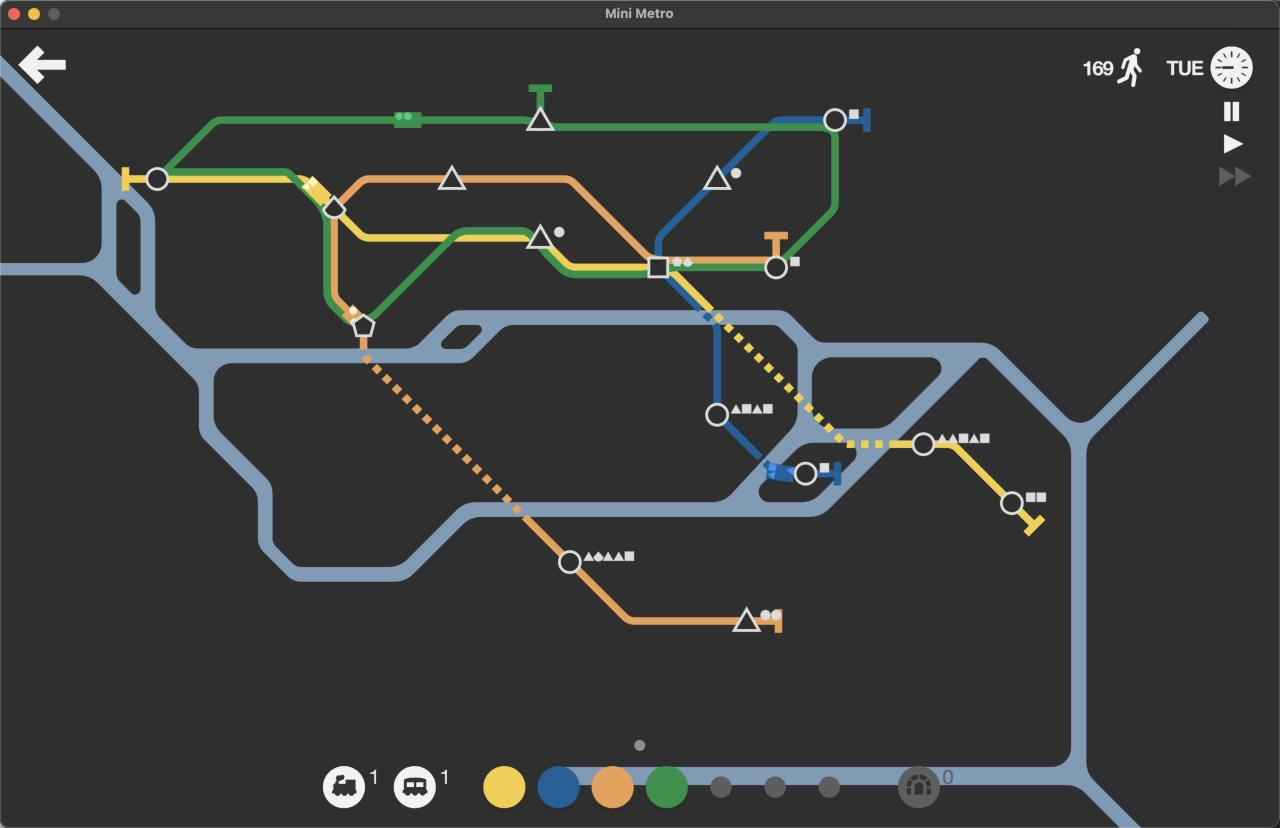CIRCLE: (557, 549, 583, 575), (822, 107, 848, 132), (793, 461, 818, 487), (705, 402, 730, 427), (145, 166, 170, 191), (911, 431, 936, 456), (764, 255, 789, 280), (999, 490, 1024, 515)
PENTAGON: (351, 313, 376, 339)
SQUARE: (647, 256, 671, 278)
TRIANGLE: (525, 222, 555, 250), (437, 164, 468, 191), (703, 163, 732, 191), (732, 606, 762, 633)
TRIAngle: (525, 107, 555, 132)
WEDGE: (322, 194, 347, 219)
